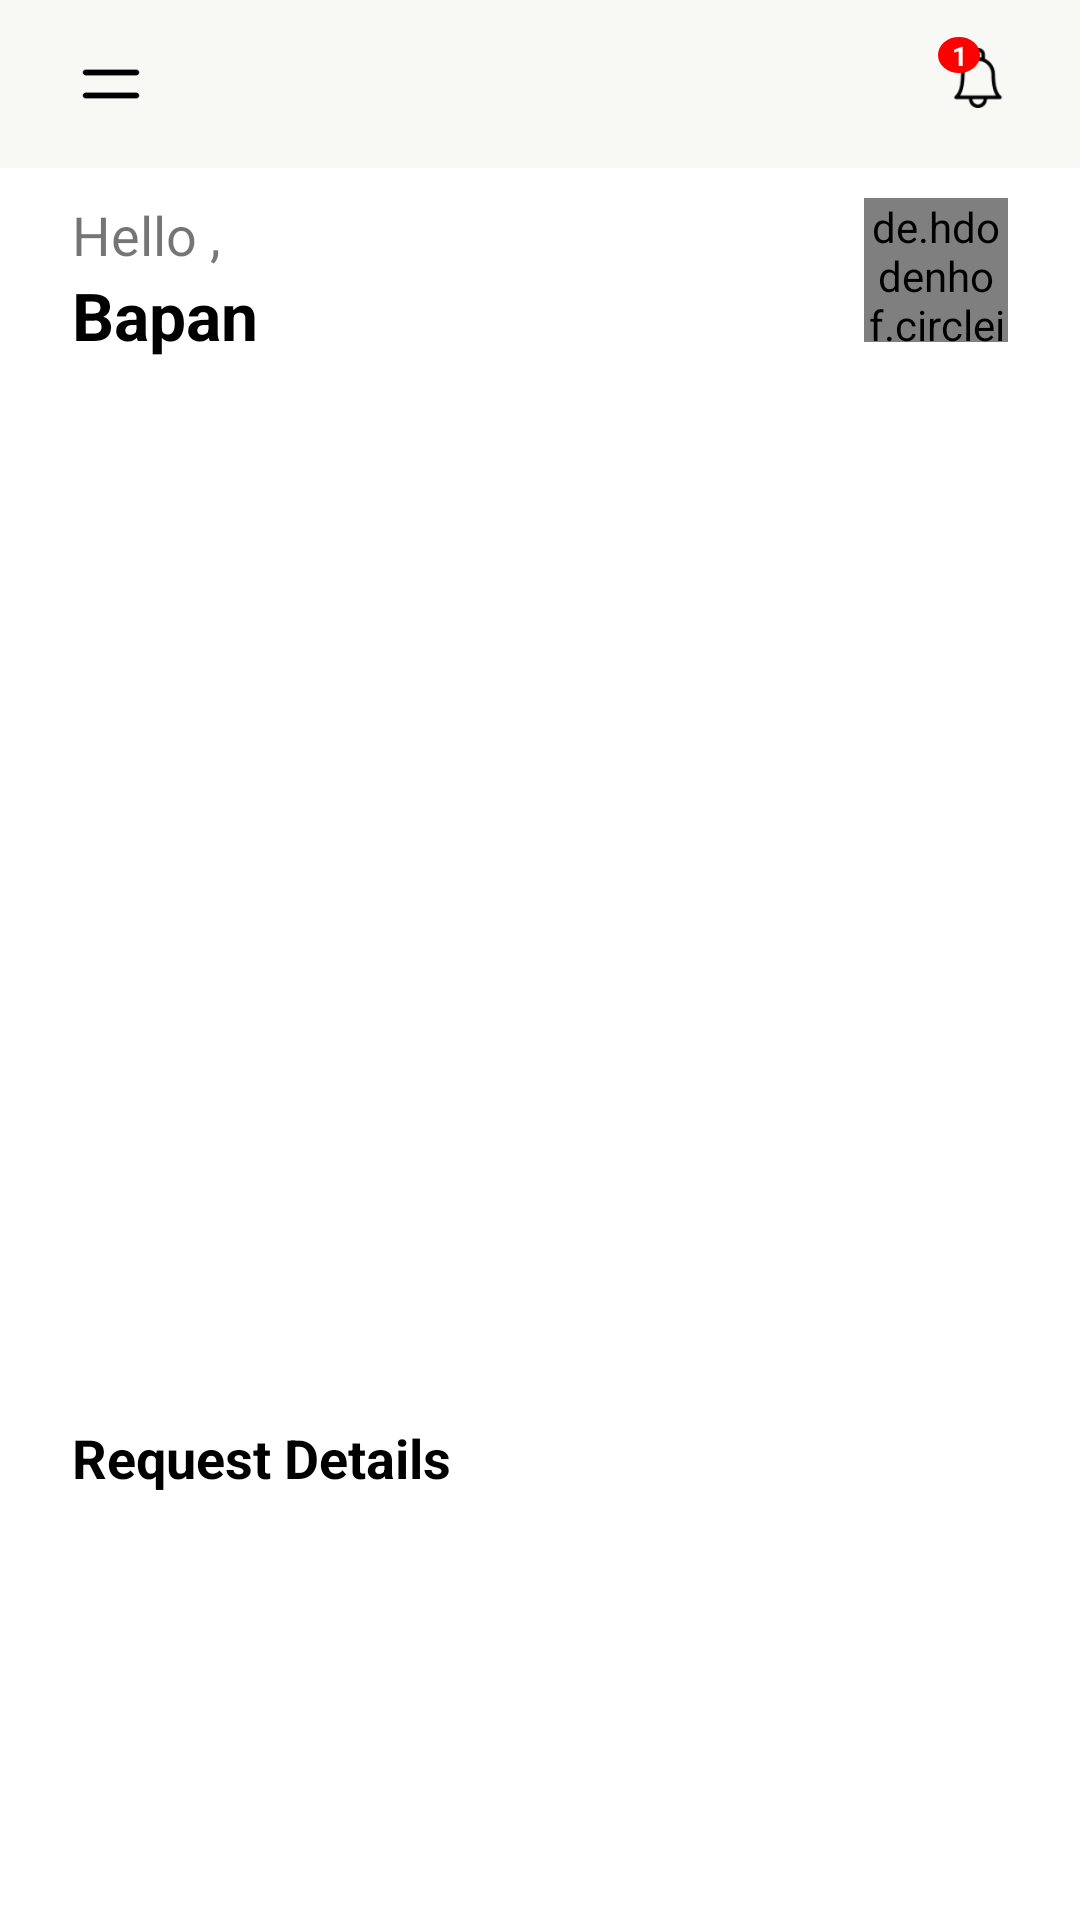

Icons on this 1080*1920 Android screen, each with its box as (x1, y1, x2, y2):
bell: (948, 48, 1002, 108)
humbargur: (82, 69, 140, 99)
